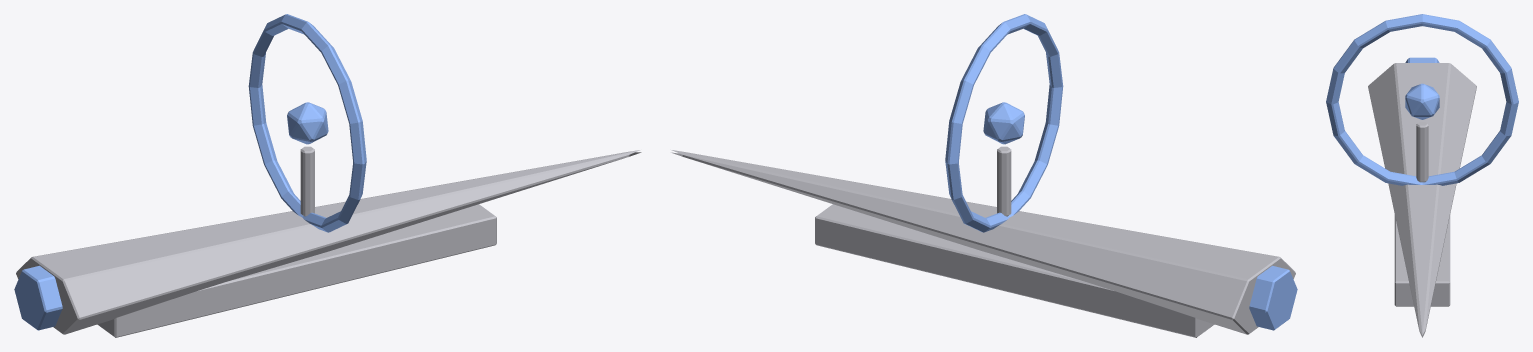
The model's file is SM_SilenceEmitterFrigate.fbx.
The picture shows the model from 3 angles, left to right: view 1: azimuth 30°, elevation 25°; view 2: azimuth 150°, elevation 25°; view 3: azimuth 270°, elevation 25°; orthographic projection. The views are drawn at different scales.
Parts seen in each view (by area): view 1: SM_SilenceEmitterFrigate; view 2: SM_SilenceEmitterFrigate; view 3: SM_SilenceEmitterFrigate.
Part boxes in pixels (<box>): SM_SilenceEmitterFrigate: <box>14,14,641,337</box>; SM_SilenceEmitterFrigate: <box>671,14,1297,337</box>; SM_SilenceEmitterFrigate: <box>1326,14,1518,337</box>.
Bounding box in the file's own units: 176 × 69.79 × 55.59.
